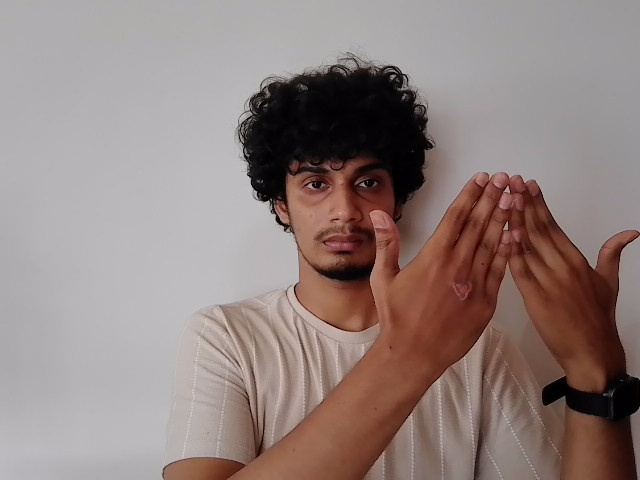thankyou: (366, 165, 640, 357)
